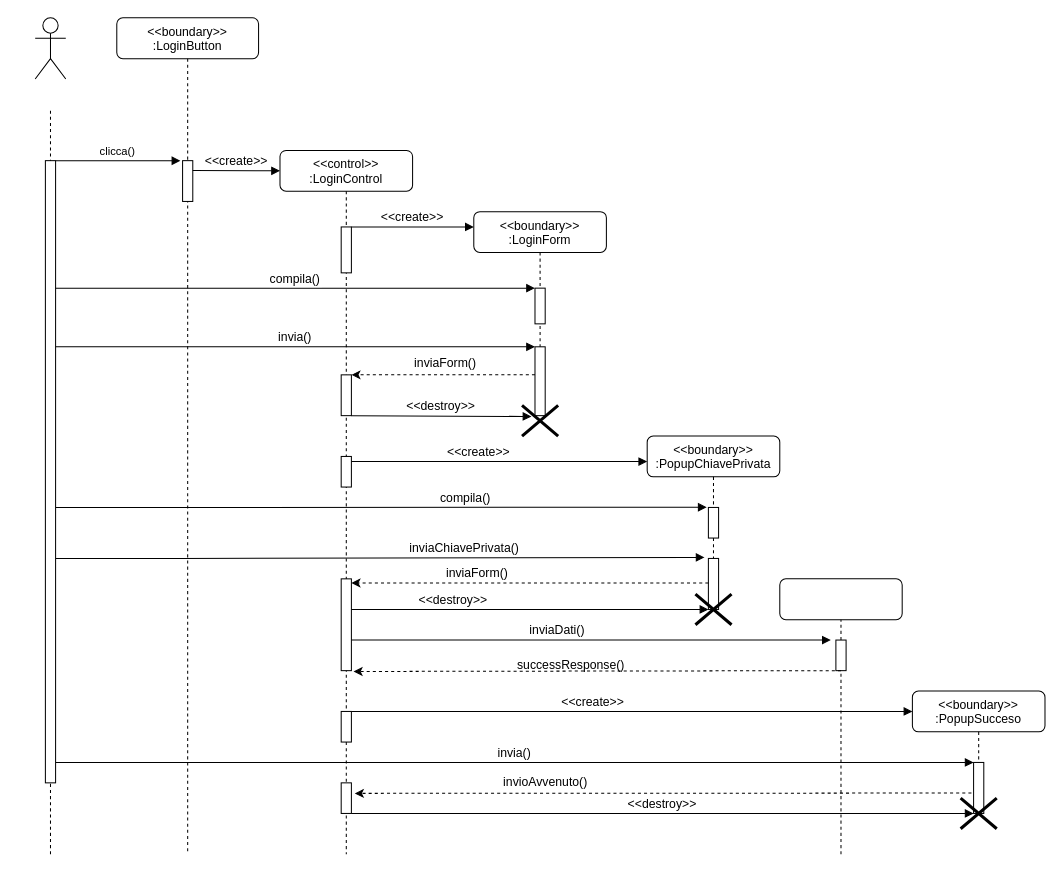
Image size: 1063x873. Some labels were removed from this diagram. Each missing label, with the centre of its shape:
":UtenteUser" goes at point 50,48.
"<<entity>> :Blockchain" goes at point 840,599.
